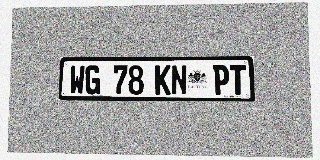7: (112, 65, 128, 95)
8: (128, 65, 144, 95)
G: (85, 65, 100, 94)
K: (155, 65, 171, 95)
N: (171, 65, 187, 95)
P: (213, 65, 229, 95)
T: (230, 65, 246, 95)
W: (69, 65, 85, 94)
